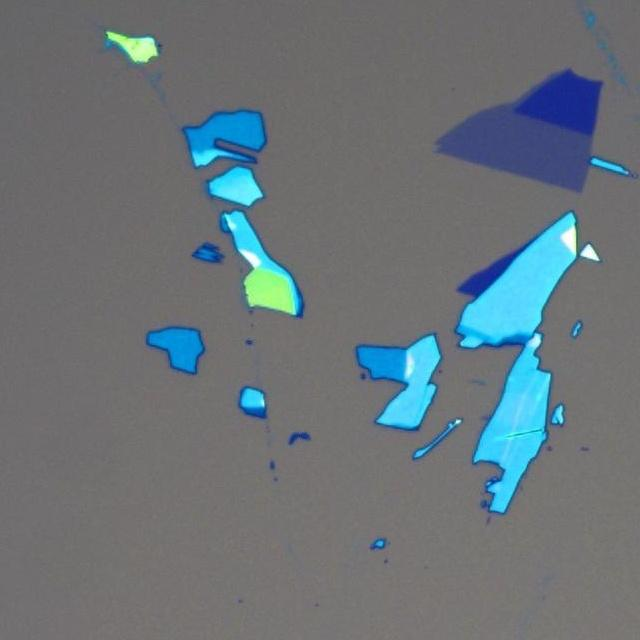monolayer-eWW4: (429, 108, 592, 196)
